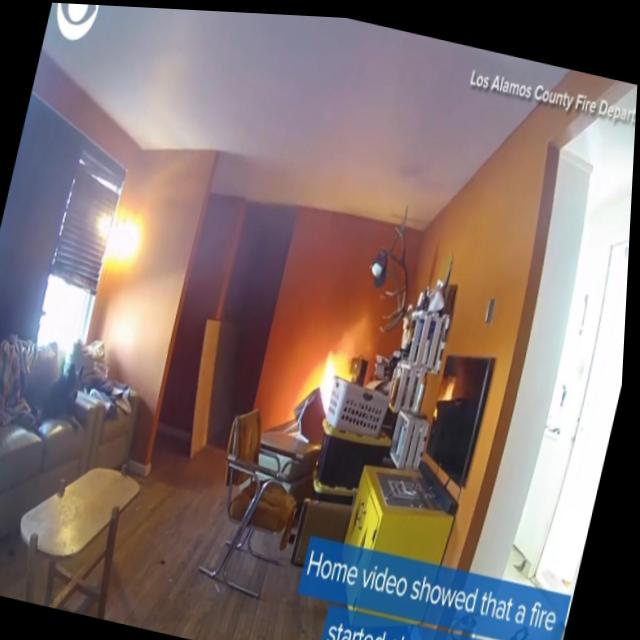fire: (311, 336, 359, 411)
